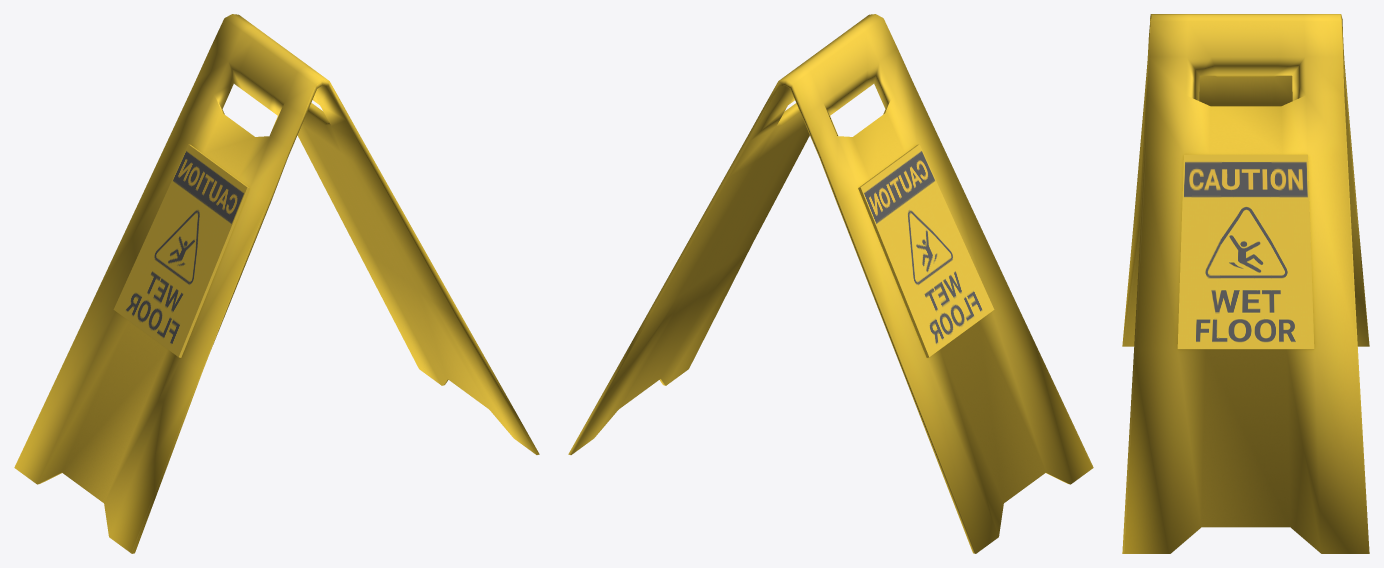
The model's file is wet-floor-sign.glb.
3 views of the same model, side by side, from view 1: azimuth 30°, elevation 25°; view 2: azimuth 150°, elevation 25°; view 3: azimuth 270°, elevation 25° (orthographic). The views are drawn at different scales.
Parts seen in each view (by area): view 1: wet-floor-sign; view 2: wet-floor-sign; view 3: wet-floor-sign.
Boxes of the visible parts, bbox=[...] form: wet-floor-sign: bbox=[14, 14, 539, 553]; wet-floor-sign: bbox=[568, 14, 1093, 553]; wet-floor-sign: bbox=[1122, 14, 1369, 553].
Size of the model in its own units: 1.29 by 1.25 by 0.6457.
1 material, 1 textured.
